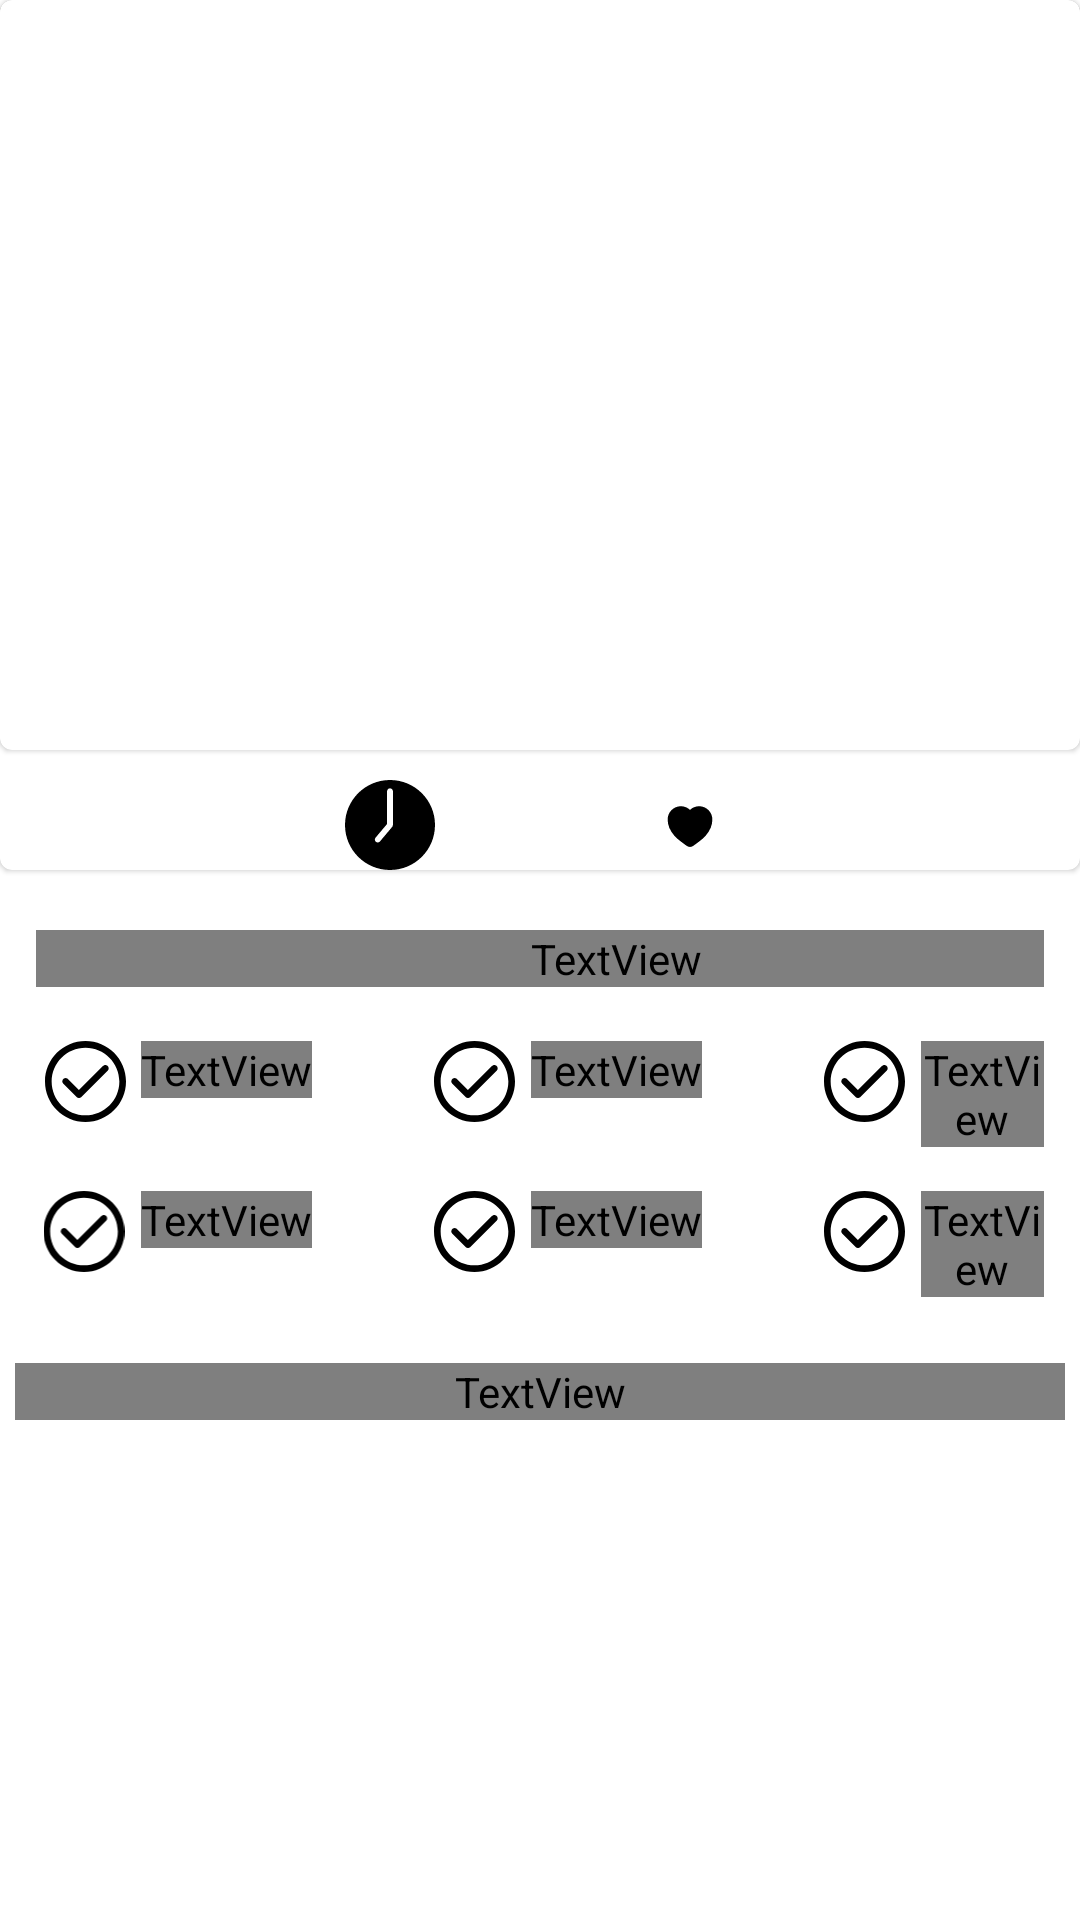

Where to tap for icons on this 1080*1920 app screen, as [x,y]:
check: [85,1081], [474,1081], [864,1081], [84,1231], [474,1231], [864,1231]
heart: [690,826]
time: [390,825]
